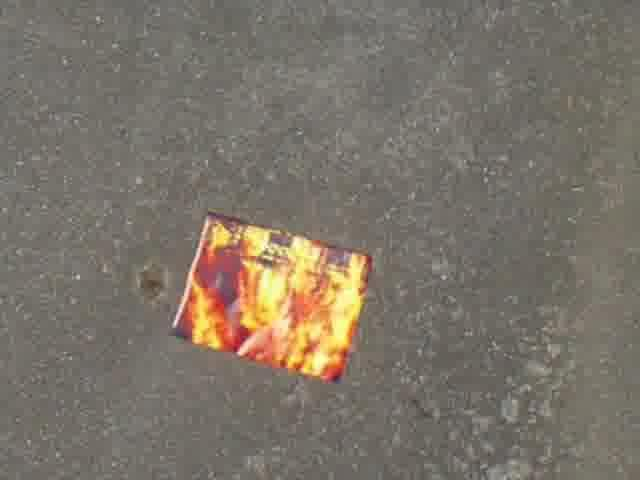fire-poster: (170, 209, 372, 383)
